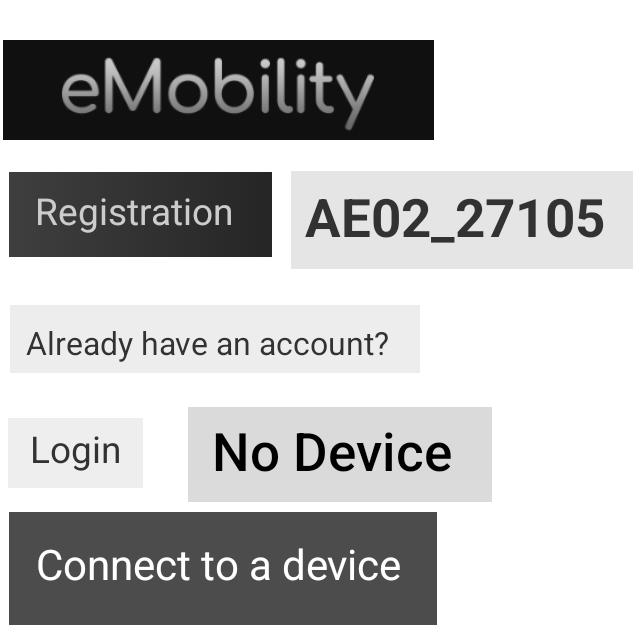5: (574, 186, 603, 241)
A: (307, 188, 342, 239), (24, 330, 40, 360)
C: (34, 547, 65, 585)
D: (293, 426, 324, 474)
L: (24, 432, 52, 468)
M: (101, 56, 167, 122)
N: (208, 430, 250, 475)
R: (34, 192, 58, 232)
S: (37, 547, 63, 583)
